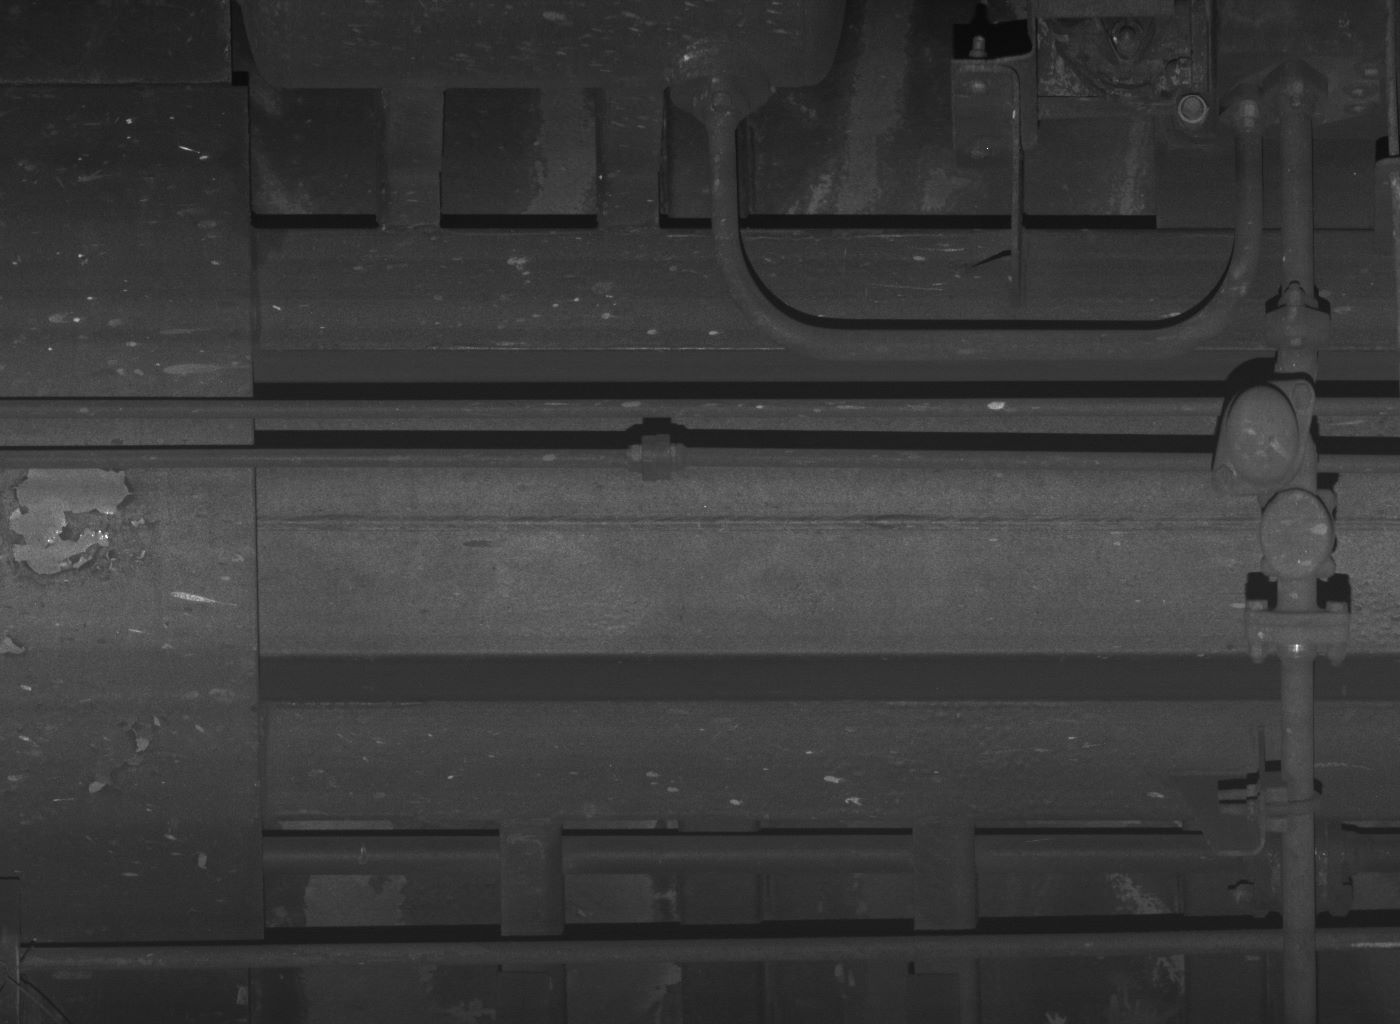normal: (1257, 487, 1339, 579)
